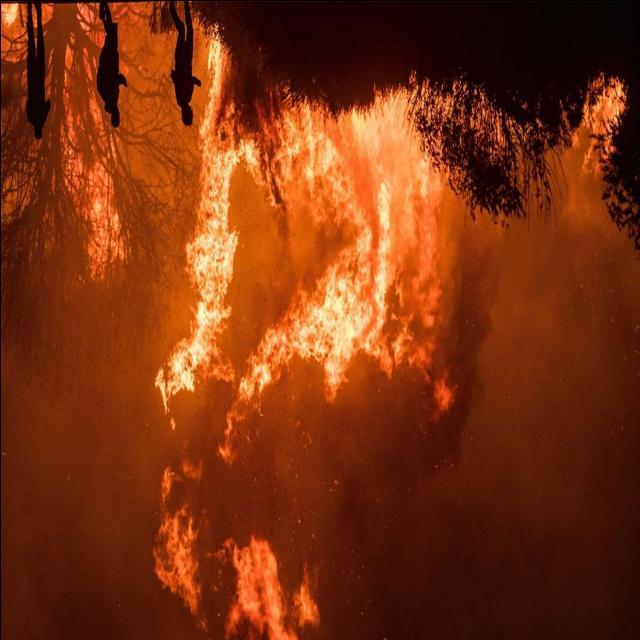Fire: (144, 33, 451, 639), (2, 3, 128, 278), (559, 72, 631, 195)
